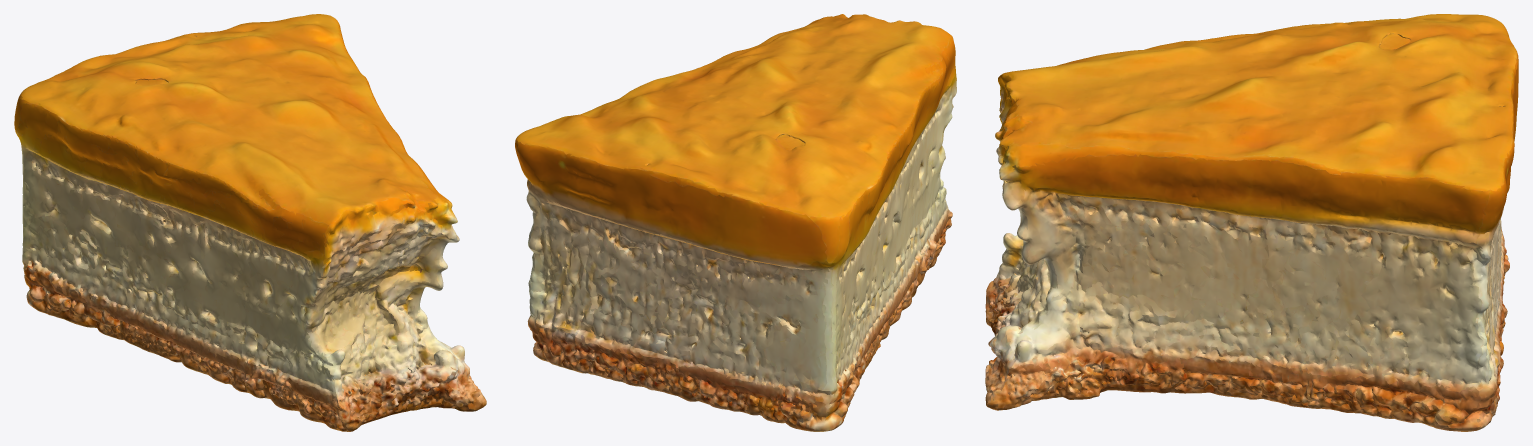
3 views of the same model, side by side, from view 1: azimuth 30°, elevation 25°; view 2: azimuth 150°, elevation 25°; view 3: azimuth 270°, elevation 25° (orthographic). The views are drawn at different scales.
Visible parts, largest first — view 1: FoodRedoV2Alignment-0; view 2: FoodRedoV2Alignment-0; view 3: FoodRedoV2Alignment-0.
Boxes of the visible parts, bbox=[...] form: FoodRedoV2Alignment-0: bbox=[14, 14, 486, 431]; FoodRedoV2Alignment-0: bbox=[515, 14, 956, 431]; FoodRedoV2Alignment-0: bbox=[985, 14, 1518, 431].
Size of the model in its own units: 0.1001 by 0.074 by 0.1245.
1 material, 1 textured.
